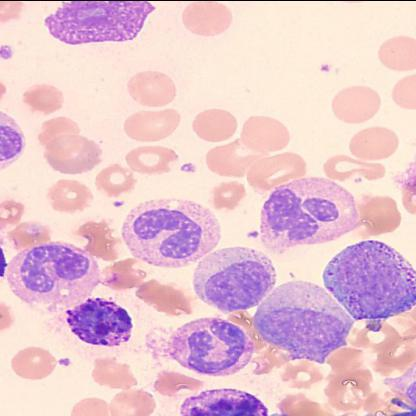Promyelocyte: (322, 239, 415, 320)
